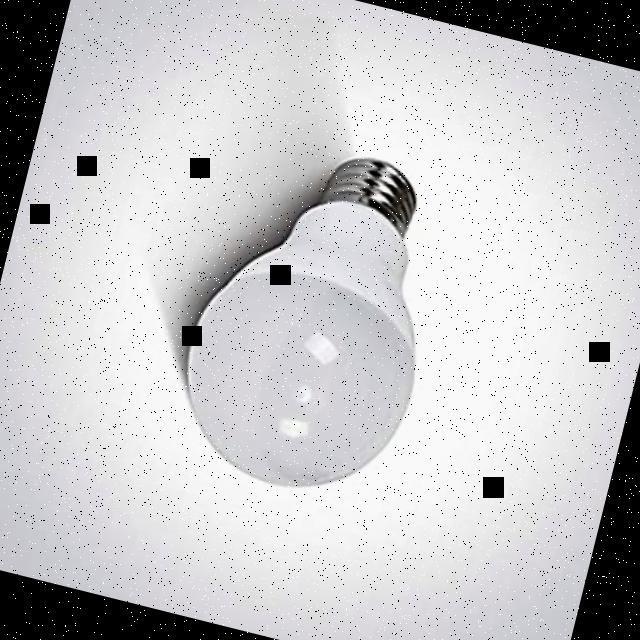light_bulb: (142, 114, 472, 526)
